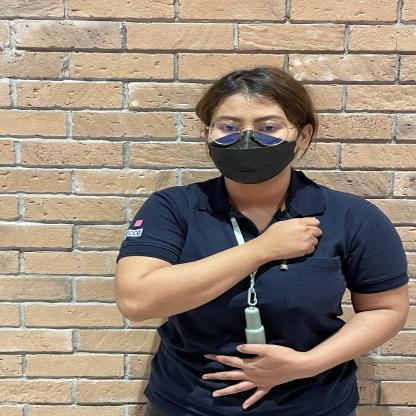Sadness: (155, 202, 354, 304)
